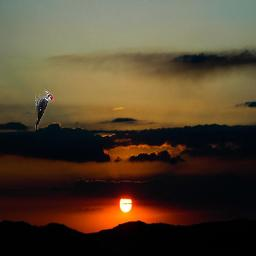Woodpecker: (35, 90, 54, 130)
